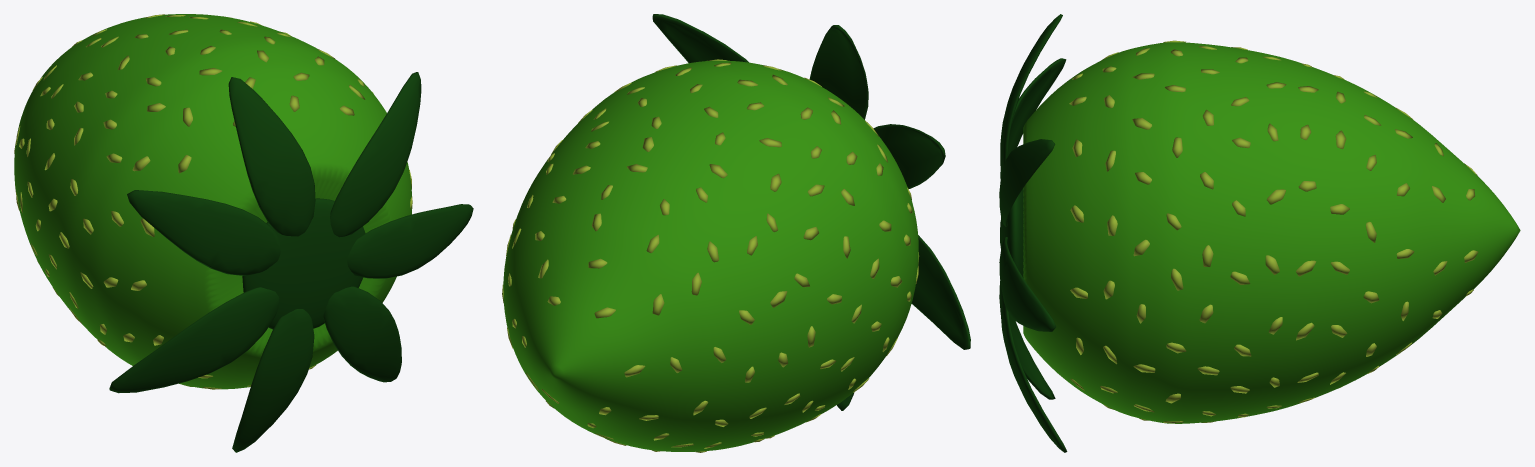
The model's file is strawberry_unripe_visual_v2.obj.
The picture shows the model from 3 angles, left to right: view 1: azimuth 30°, elevation 25°; view 2: azimuth 150°, elevation 25°; view 3: azimuth 270°, elevation 25°; orthographic projection. The views are drawn at different scales.
Visible parts, largest first — view 1: strawberry_ripe_body_v5, calyx_leaf_v5_03, calyx_leaf_v5_02, calyx_leaf_v5_04, calyx_center_v5, calyx_leaf_v5_01, calyx_leaf_v5_05, calyx_leaf_v5_00, strawberry_seeds_v5, calyx_leaf_v5_06; view 2: strawberry_ripe_body_v5, strawberry_seeds_v5, calyx_leaf_v5_02, calyx_leaf_v5_04, calyx_leaf_v5_03, calyx_leaf_v5_01; view 3: strawberry_ripe_body_v5, strawberry_seeds_v5, calyx_leaf_v5_00, calyx_leaf_v5_01, calyx_leaf_v5_03, calyx_leaf_v5_06, calyx_leaf_v5_02, calyx_center_v5, calyx_leaf_v5_05.
Boxes of the visible parts, x1,y1,x2,y2 form: strawberry_ripe_body_v5: (14, 14, 412, 389); calyx_leaf_v5_03: (127, 190, 280, 275); calyx_leaf_v5_02: (228, 77, 315, 236); calyx_leaf_v5_04: (109, 287, 279, 393); calyx_center_v5: (242, 198, 365, 329); calyx_leaf_v5_01: (330, 72, 421, 237); calyx_leaf_v5_05: (232, 309, 314, 452); calyx_leaf_v5_00: (347, 204, 473, 278); strawberry_seeds_v5: (14, 14, 412, 389); calyx_leaf_v5_06: (323, 286, 401, 382); strawberry_ripe_body_v5: (503, 60, 918, 451); strawberry_seeds_v5: (502, 59, 919, 452); calyx_leaf_v5_02: (809, 25, 868, 119); calyx_leaf_v5_04: (911, 235, 970, 349); calyx_leaf_v5_03: (873, 124, 945, 188); calyx_leaf_v5_01: (652, 14, 748, 63); strawberry_ripe_body_v5: (1023, 42, 1520, 423); strawberry_seeds_v5: (1069, 40, 1478, 423); calyx_leaf_v5_00: (999, 237, 1055, 331); calyx_leaf_v5_01: (999, 139, 1055, 226); calyx_leaf_v5_03: (1000, 58, 1066, 179); calyx_leaf_v5_06: (1000, 288, 1067, 452); calyx_leaf_v5_02: (1000, 14, 1062, 176); calyx_center_v5: (1000, 188, 1023, 277); calyx_leaf_v5_05: (999, 281, 1055, 399).
Bounding box in the file's own units: 0.0475 × 0.0467 × 0.0572.
